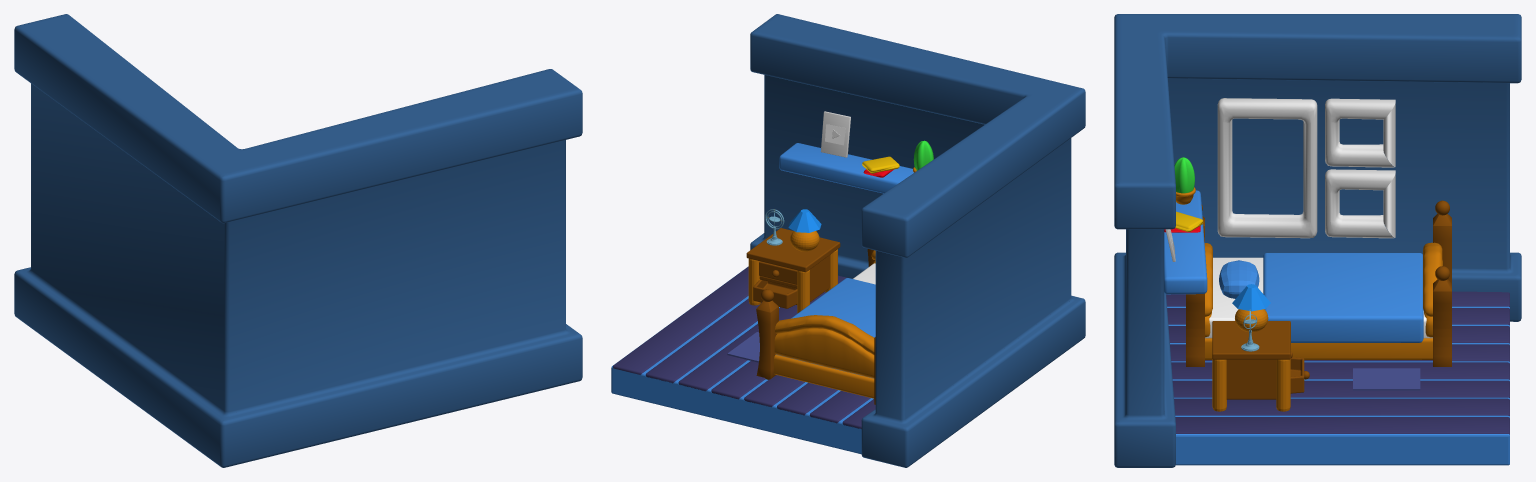
The model's file is room.glb.
The picture shows the model from 3 angles, left to right: view 1: azimuth 30°, elevation 25°; view 2: azimuth 150°, elevation 25°; view 3: azimuth 270°, elevation 25°; orthographic projection. The views are drawn at different scales.
Visible parts, largest first — view 1: wall; view 2: wall, base tiles, base, bed sides, table, side wall, bed sheet, bed floor, bed legs, table legs, Cube.005, carpet (+2 smaller); view 3: wall, base tiles, window, bed sheet, base, table, bed legs, side wall, bed floor, bed sides, carpet, table legs (+5 smaller).
Part boxes in pixels (x1,y1,x2,y2): wall: (14, 14, 582, 467); wall: (750, 14, 1085, 467); base tiles: (613, 266, 875, 428); base: (611, 267, 873, 454); bed sides: (774, 250, 875, 377); table: (746, 228, 840, 308); side wall: (779, 143, 913, 193); bed sheet: (791, 278, 875, 337); bed floor: (774, 355, 874, 398); bed legs: (756, 249, 875, 404); table legs: (748, 249, 837, 312); Cube.005: (820, 111, 850, 157); carpet: (727, 332, 759, 362); wall: (1114, 14, 1521, 467); base tiles: (1166, 291, 1509, 434); window: (1217, 98, 1395, 238); bed sheet: (1263, 253, 1423, 342); base: (1167, 306, 1509, 465); table: (1212, 321, 1304, 399); bed legs: (1186, 200, 1451, 366); side wall: (1164, 190, 1207, 294); bed floor: (1205, 338, 1432, 359); bed sides: (1204, 242, 1442, 337); carpet: (1353, 368, 1420, 390); table legs: (1212, 359, 1290, 411).
Bounding box in the file's own units: 2.12 × 1.64 × 2.12.
